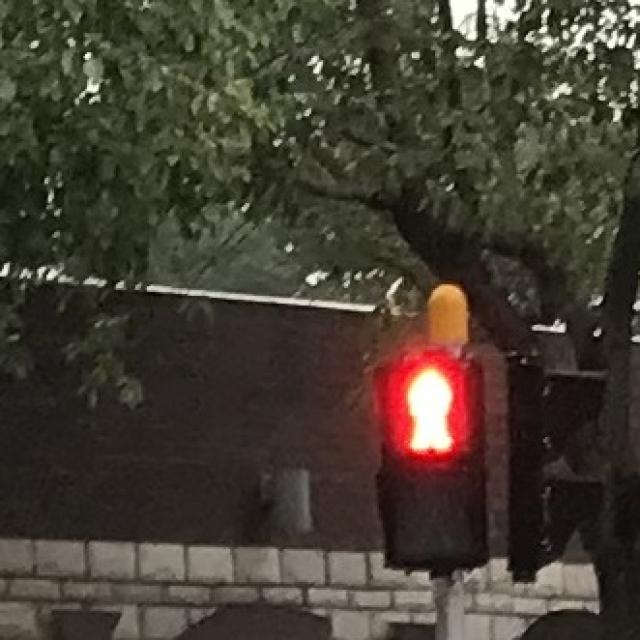red_light: (390, 352, 470, 464)
